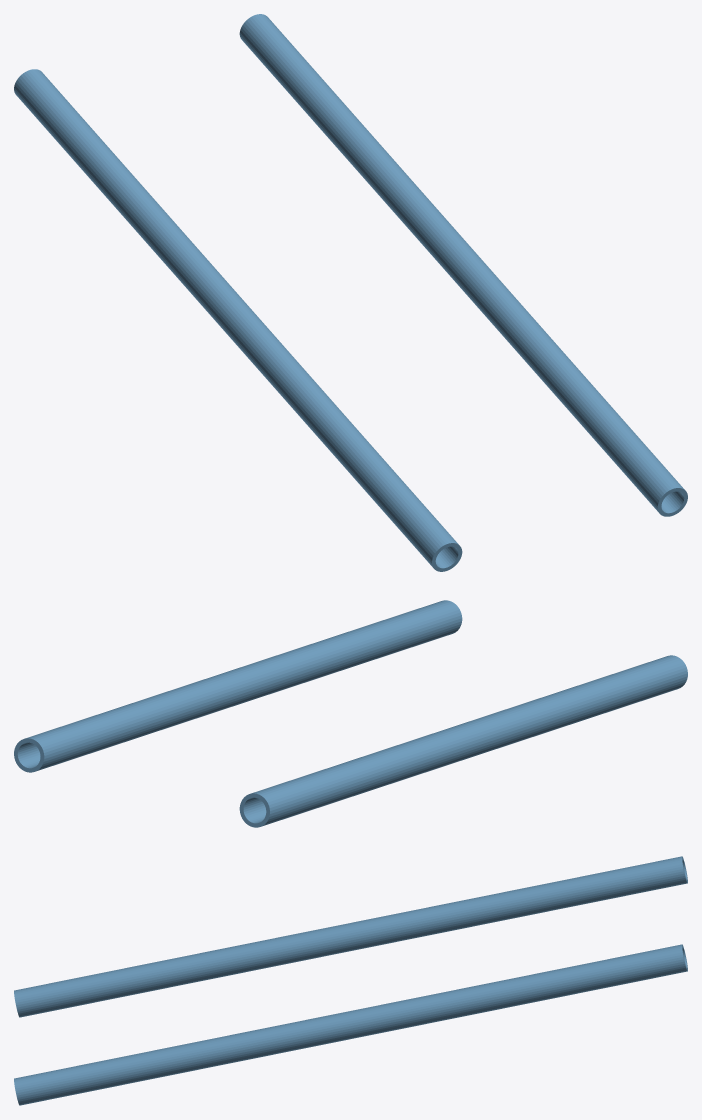
Rendered from COOL-MOT.glb.
3 views of the same model, one above another, from view 1: azimuth 30°, elevation 25°; view 2: azimuth 150°, elevation 25°; view 3: azimuth 270°, elevation 25° (orthographic). The views are drawn at different scales.
Visible parts, largest first — view 1: geometry_0; view 2: geometry_0; view 3: geometry_0.
Boxes of the visible parts, x1,y1,x2,y2 form: geometry_0: (14, 14, 687, 571); geometry_0: (14, 600, 687, 827); geometry_0: (14, 856, 687, 1105).
Size of the model in its own units: 136 by 101 by 388.
